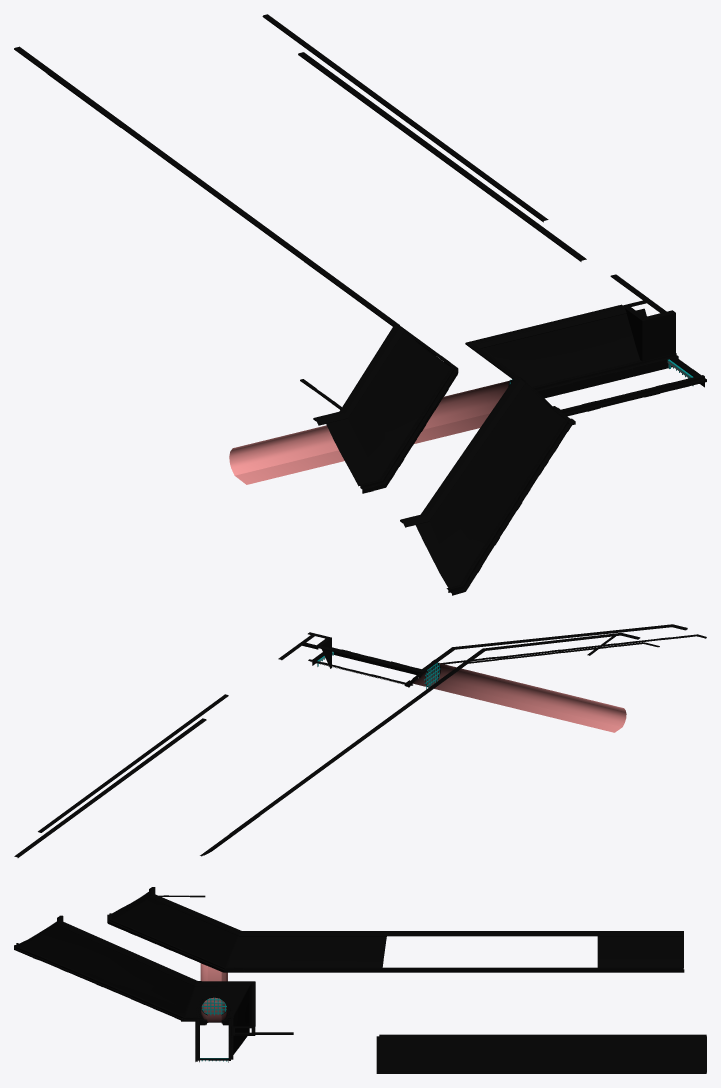
The model's file is SM_ENV_LKNVLD03_Ground_D_03.gltf.
3 views of the same model, one above another, from view 1: azimuth 30°, elevation 25°; view 2: azimuth 150°, elevation 25°; view 3: azimuth 270°, elevation 25° (orthographic). The views are drawn at different scales.
Parts seen in each view (by area): view 1: SM_ENV_LKNVLD03_Ground_D_03; view 2: SM_ENV_LKNVLD03_Ground_D_03; view 3: SM_ENV_LKNVLD03_Ground_D_03.
Boxes of the visible parts, left/top/right/bottom form: SM_ENV_LKNVLD03_Ground_D_03: left=14, top=14, right=706, bottom=595; SM_ENV_LKNVLD03_Ground_D_03: left=14, top=624, right=706, bottom=857; SM_ENV_LKNVLD03_Ground_D_03: left=14, top=887, right=706, bottom=1073.
Bounding box in the file's own units: 67.01 × 13.05 × 142.
